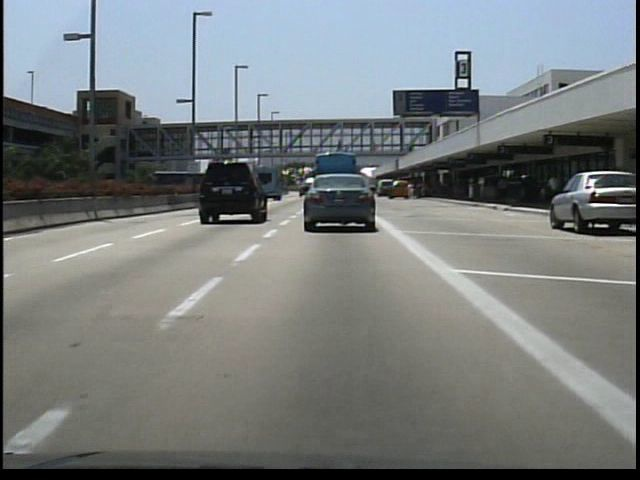person: (544, 169, 563, 210), (493, 174, 511, 209), (404, 178, 420, 205), (368, 137, 381, 159), (333, 136, 346, 156)
